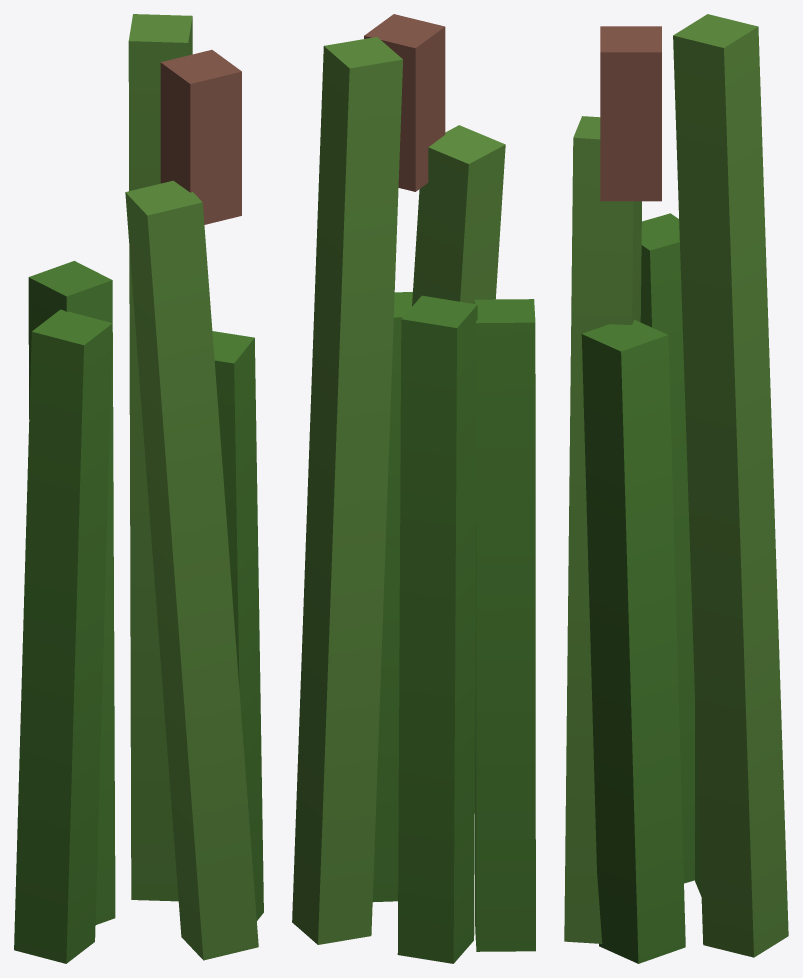
Rendered from reed-tuft.glb.
3 renders of one model, left to right at view 1: azimuth 30°, elevation 25°; view 2: azimuth 150°, elevation 25°; view 3: azimuth 270°, elevation 25°, orthographic. The views are drawn at different scales.
Parts seen in each view (by area): view 1: reed-tuft_body; view 2: reed-tuft_body; view 3: reed-tuft_body.
Part boxes in pixels (x1,y1,x2,y2): reed-tuft_body: (14,14,263,963); reed-tuft_body: (292,14,535,963); reed-tuft_body: (564,14,788,963).
Bounding box in the file's own units: 0.262 × 0.9714 × 0.2187.
